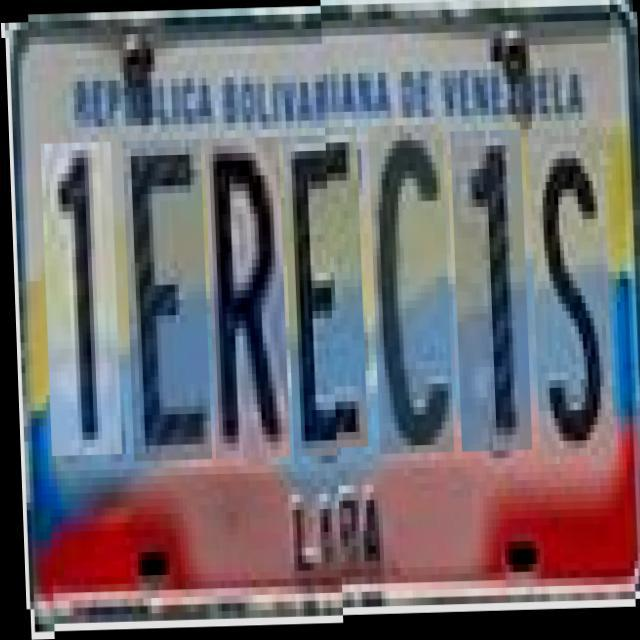1: (449, 133, 528, 455), (39, 135, 118, 449)
C: (367, 127, 451, 456)
E: (121, 132, 208, 454), (281, 128, 364, 450)
R: (203, 130, 286, 452)
S: (527, 131, 611, 460)
